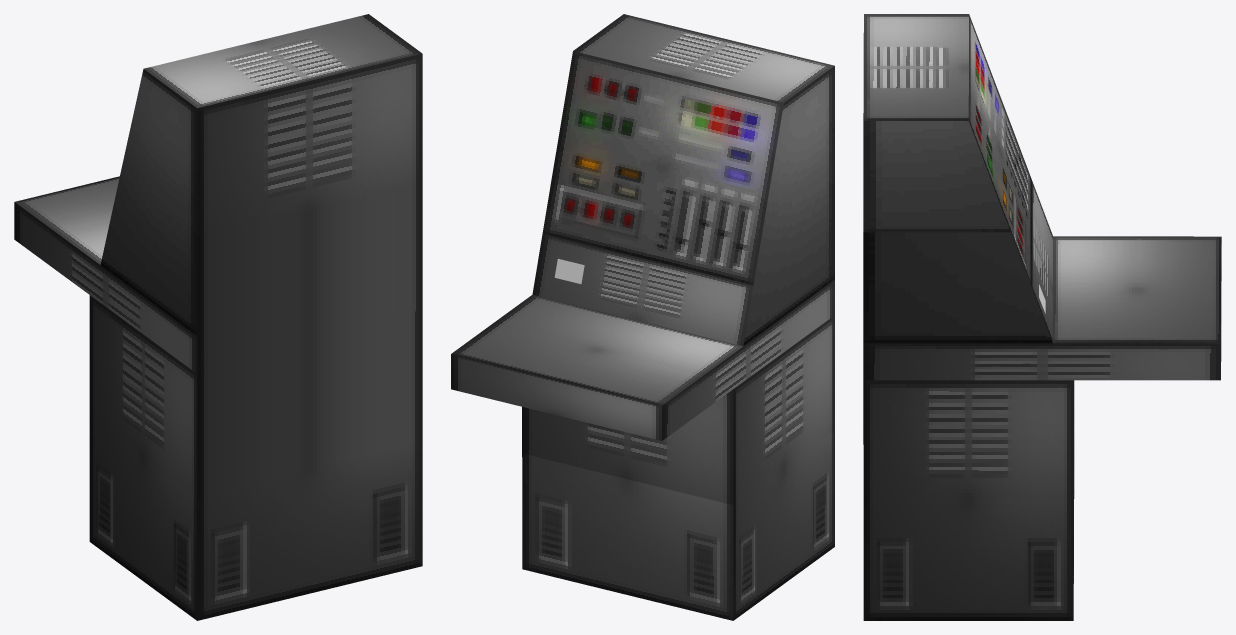
Rendered from primary_195.glb.
3 views of the same model, side by side, from view 1: azimuth 30°, elevation 25°; view 2: azimuth 150°, elevation 25°; view 3: azimuth 270°, elevation 25° (orthographic). The views are drawn at different scales.
Visible parts, largest first — view 1: Object; view 2: Object; view 3: Object.
Boxes of the visible parts, <box> form: Object: <box>14,14,422,620</box>; Object: <box>451,14,834,620</box>; Object: <box>863,14,1221,620</box>.
Bounding box in the file's own units: 0.8197 × 1.78 × 1.16.
21 materials, 21 textured.
